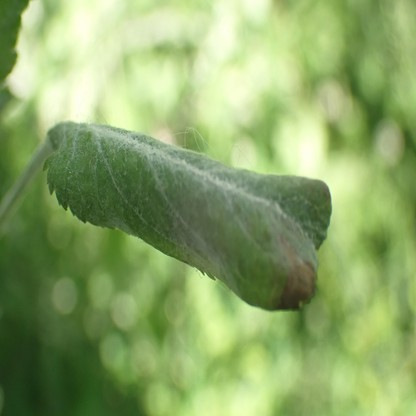powder: (45, 121, 332, 312)
